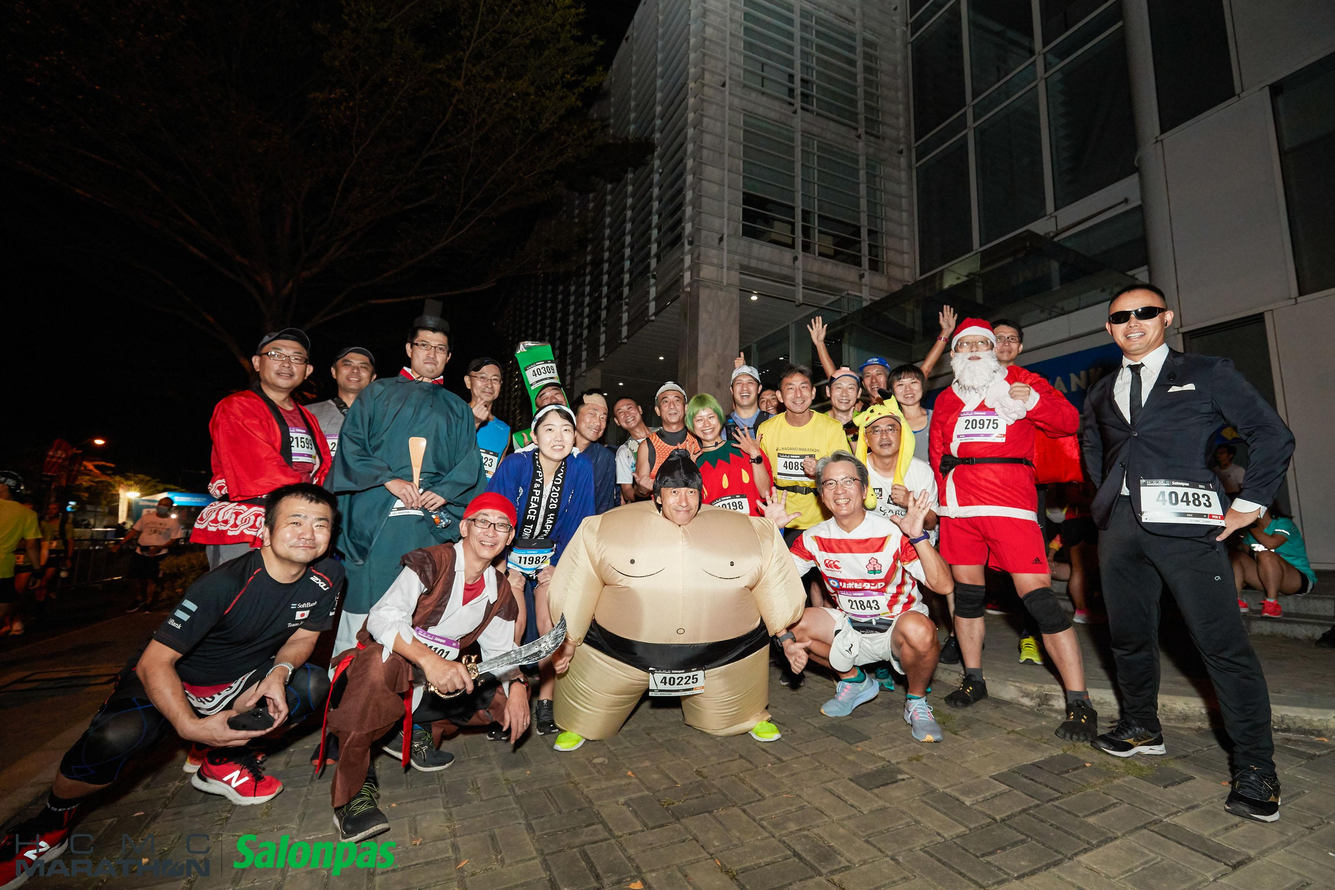bib: (1135, 478, 1227, 527), (412, 624, 465, 668), (648, 667, 707, 695), (955, 410, 1006, 441), (835, 591, 893, 618), (286, 431, 319, 466), (777, 452, 814, 480), (524, 362, 561, 387), (707, 494, 752, 514), (509, 549, 555, 568)
